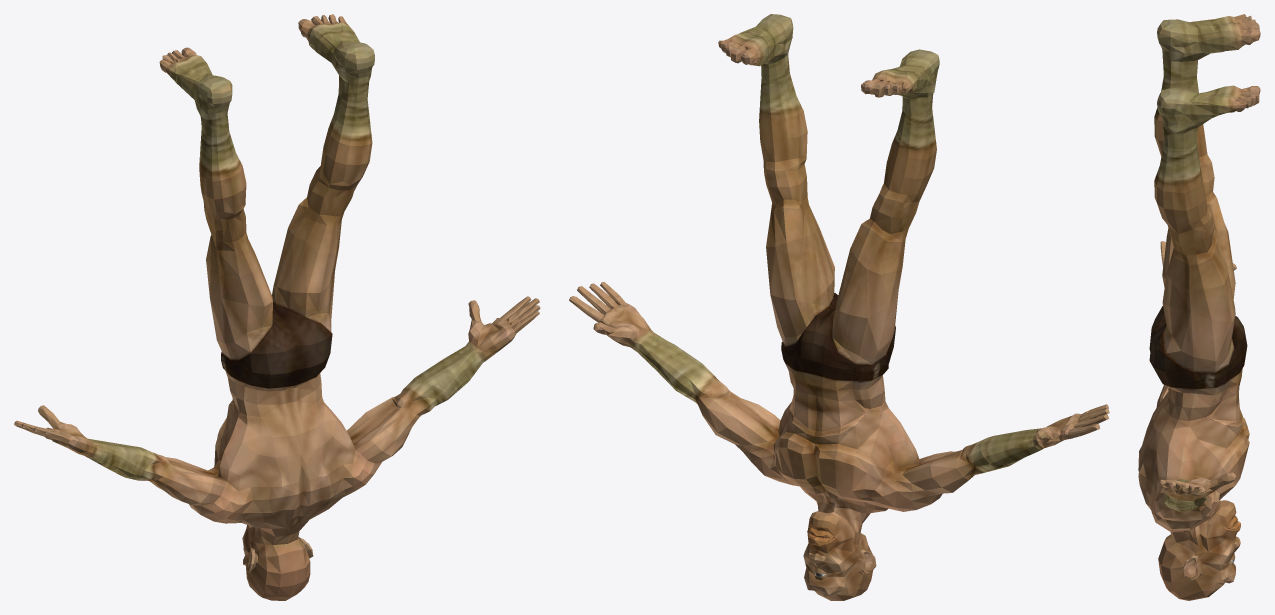
The model's file is cyclop.glb.
3 renders of one model, left to right at view 1: azimuth 30°, elevation 25°; view 2: azimuth 150°, elevation 25°; view 3: azimuth 270°, elevation 25°, orthographic. The views are drawn at different scales.
Parts seen in each view (by area): view 1: cyclop.obj; view 2: cyclop.obj; view 3: cyclop.obj.
Boxes of the visible parts, x1,y1,x2,y2 form: cyclop.obj: [14, 14, 540, 600]; cyclop.obj: [569, 14, 1109, 600]; cyclop.obj: [1138, 14, 1260, 600].
Bounding box in the file's own units: 0.9994 × 1 × 0.2045.
1 material, 1 textured.
